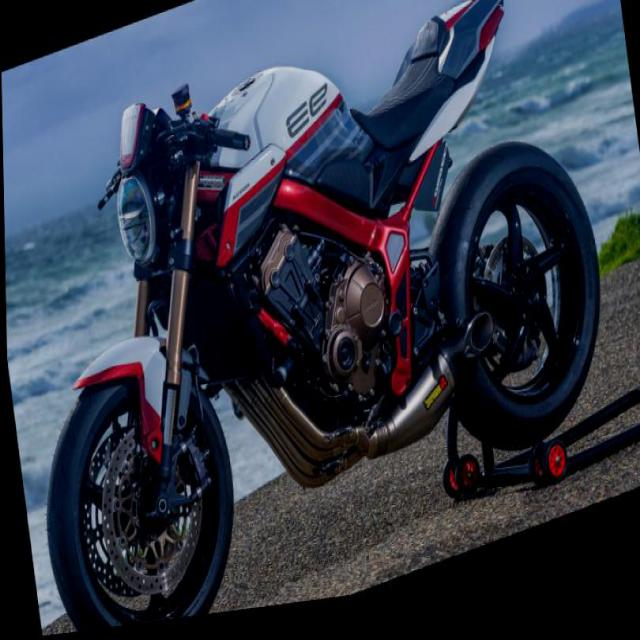CB650R: (1, 0, 630, 639)
